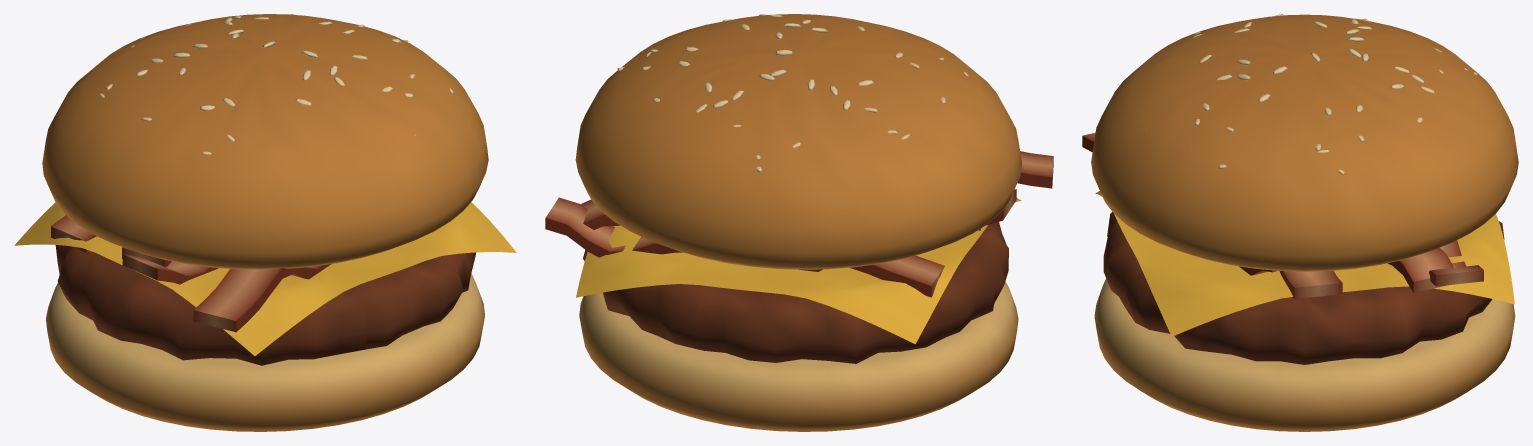
Rendered from xbacon.glb.
The picture shows the model from 3 angles, left to right: view 1: azimuth 30°, elevation 25°; view 2: azimuth 150°, elevation 25°; view 3: azimuth 270°, elevation 25°; orthographic projection.
Visible parts, largest first — view 1: xbacon; view 2: xbacon; view 3: xbacon.
Part boxes in pixels (x1,y1,x2,y2): xbacon: [14, 14, 516, 431]; xbacon: [545, 14, 1053, 431]; xbacon: [1082, 14, 1518, 431].
Bounding box in the file's own units: 0.126 × 0.0948 × 0.1235.
